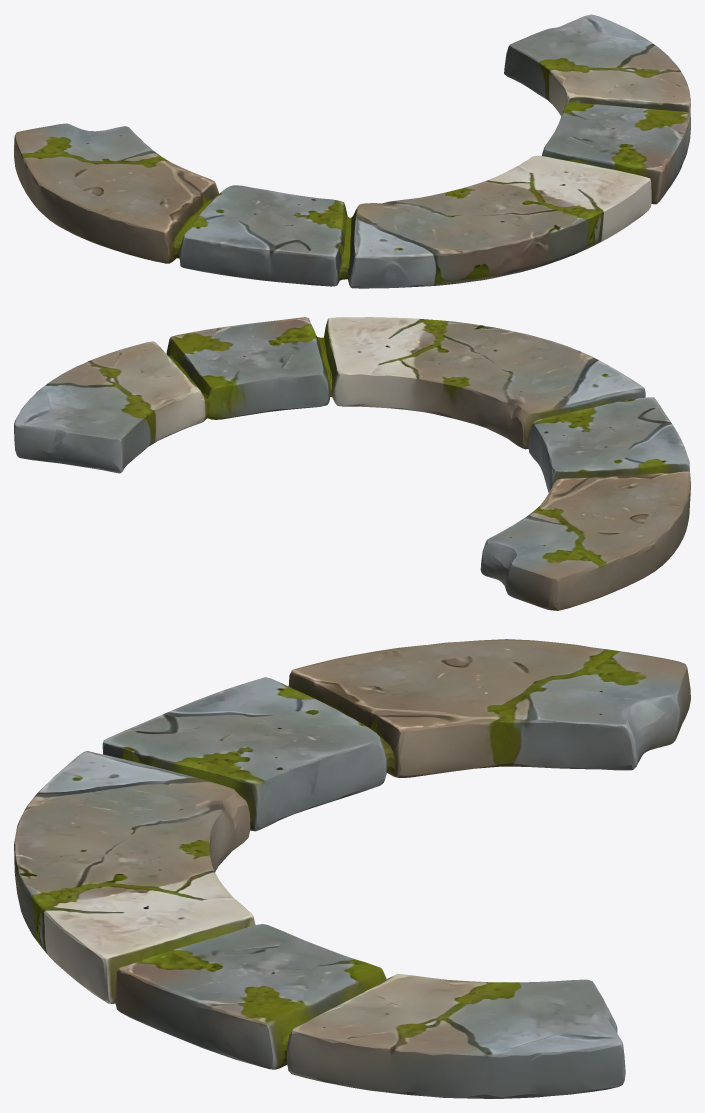
3 views of the same model, one above another, from view 1: azimuth 30°, elevation 25°; view 2: azimuth 150°, elevation 25°; view 3: azimuth 270°, elevation 25° (orthographic). The views are drawn at different scales.
Parts seen in each view (by area): view 1: Mesh; view 2: Mesh; view 3: Mesh.
Part boxes in pixels (x1,y1,x2,y2): Mesh: (14, 14, 690, 288); Mesh: (14, 317, 690, 610); Mesh: (14, 639, 690, 1098).
Bounding box in the file's own units: 1.9 × 0.1015 × 1.3.
Materials: 1 (1 with a texture image).
